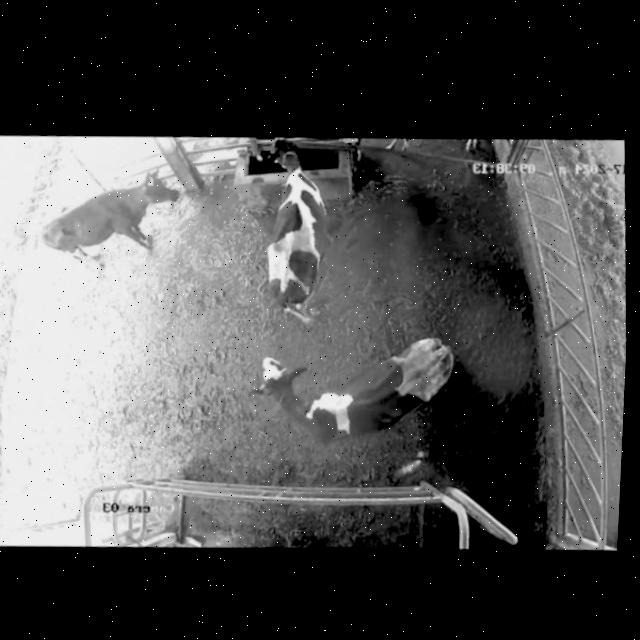drink: (254, 134, 329, 212)
lay: (234, 309, 474, 468)
stand: (32, 158, 188, 278)
